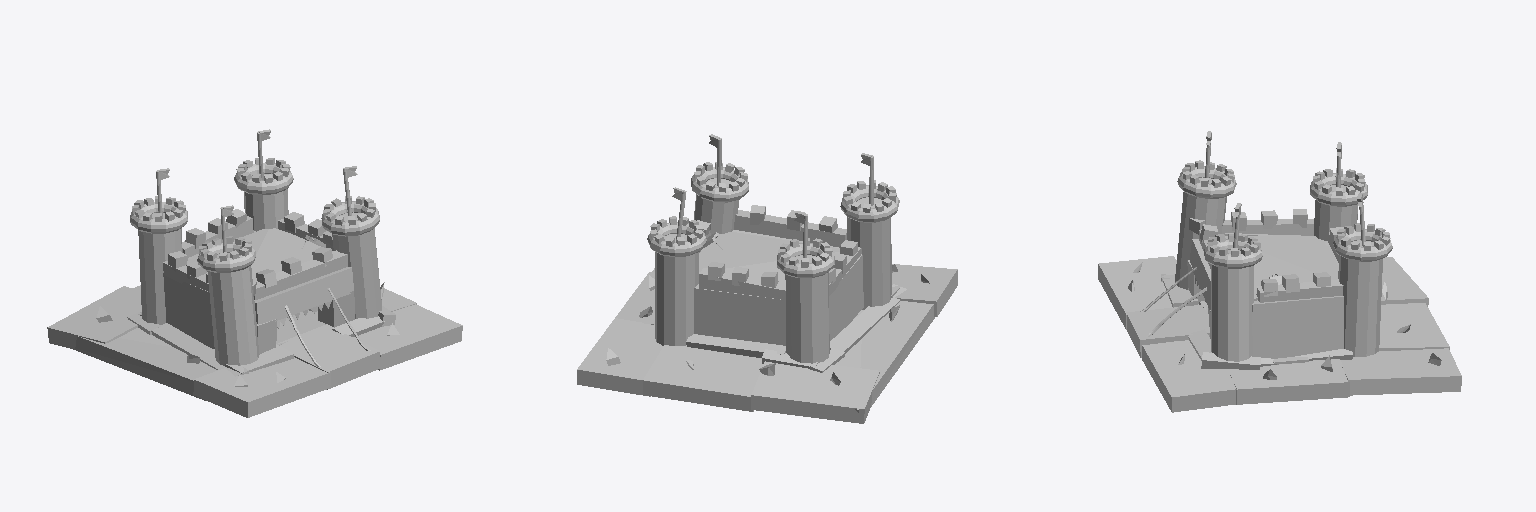
The model's file is castle.obj.
3 renders of one model, left to right at view 1: azimuth 30°, elevation 25°; view 2: azimuth 150°, elevation 25°; view 3: azimuth 270°, elevation 25°, orthographic.
Parts seen in each view (by area): view 1: group[number redacted], group[number redacted], group[number redacted], group[number redacted], group[number redacted], group[number redacted], group[number redacted], group[number redacted], group[number redacted], group[number redacted], group[number redacted], group[number redacted] (+13 smaller); view 2: group[number redacted], group[number redacted], group[number redacted], group[number redacted], group[number redacted], group[number redacted], group[number redacted], group[number redacted], group[number redacted], group[number redacted], group[number redacted], group[number redacted] (+9 smaller); view 3: group[number redacted], group[number redacted], group[number redacted], group[number redacted], group[number redacted], group[number redacted], group[number redacted], group[number redacted], group[number redacted], group[number redacted], group[number redacted], group[number redacted] (+9 smaller).
Part boxes in pixels (bbox=[...]): group[number redacted]: bbox=[193, 357, 330, 417]; group[number redacted]: bbox=[73, 328, 217, 400]; group[number redacted]: bbox=[207, 253, 259, 365]; group[number redacted]: bbox=[353, 304, 462, 370]; group[number redacted]: bbox=[276, 324, 380, 389]; group[number redacted]: bbox=[47, 286, 141, 349]; group[number redacted]: bbox=[254, 267, 353, 324]; group[number redacted]: bbox=[332, 212, 381, 318]; group[number redacted]: bbox=[138, 213, 182, 324]; group[number redacted]: bbox=[163, 273, 214, 348]; group[number redacted]: bbox=[187, 228, 332, 280]; group[number redacted]: bbox=[254, 250, 347, 299]; group[number redacted]: bbox=[751, 361, 879, 423]; group[number redacted]: bbox=[643, 345, 763, 411]; group[number redacted]: bbox=[694, 284, 785, 345]; group[number redacted]: bbox=[577, 318, 663, 396]; group[number redacted]: bbox=[835, 301, 934, 412]; group[number redacted]: bbox=[785, 255, 829, 363]; group[number redacted]: bbox=[655, 234, 698, 345]; group[number redacted]: bbox=[847, 197, 891, 309]; group[number redacted]: bbox=[699, 232, 839, 283]; group[number redacted]: bbox=[892, 264, 957, 316]; group[number redacted]: bbox=[829, 254, 863, 340]; group[number redacted]: bbox=[734, 210, 846, 247]; group[number redacted]: bbox=[1252, 296, 1343, 358]; group[number redacted]: bbox=[1341, 348, 1461, 395]; group[number redacted]: bbox=[1142, 340, 1236, 412]; group[number redacted]: bbox=[1228, 359, 1349, 404]; group[number redacted]: bbox=[1211, 250, 1253, 361]; group[number redacted]: bbox=[1338, 240, 1382, 356]; group[number redacted]: bbox=[1098, 256, 1198, 329]; group[number redacted]: bbox=[1225, 235, 1338, 300]; group[number redacted]: bbox=[1378, 303, 1449, 351]; group[number redacted]: bbox=[1126, 305, 1209, 357]; group[number redacted]: bbox=[1175, 178, 1226, 289]; group[number redacted]: bbox=[1381, 257, 1428, 306].
Size of the model in its own units: 1.99 by 1.13 by 2.06.